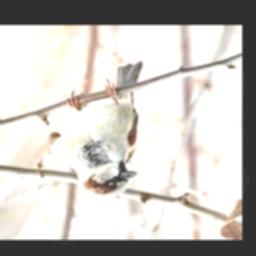Sparrow: (66, 62, 143, 197)
